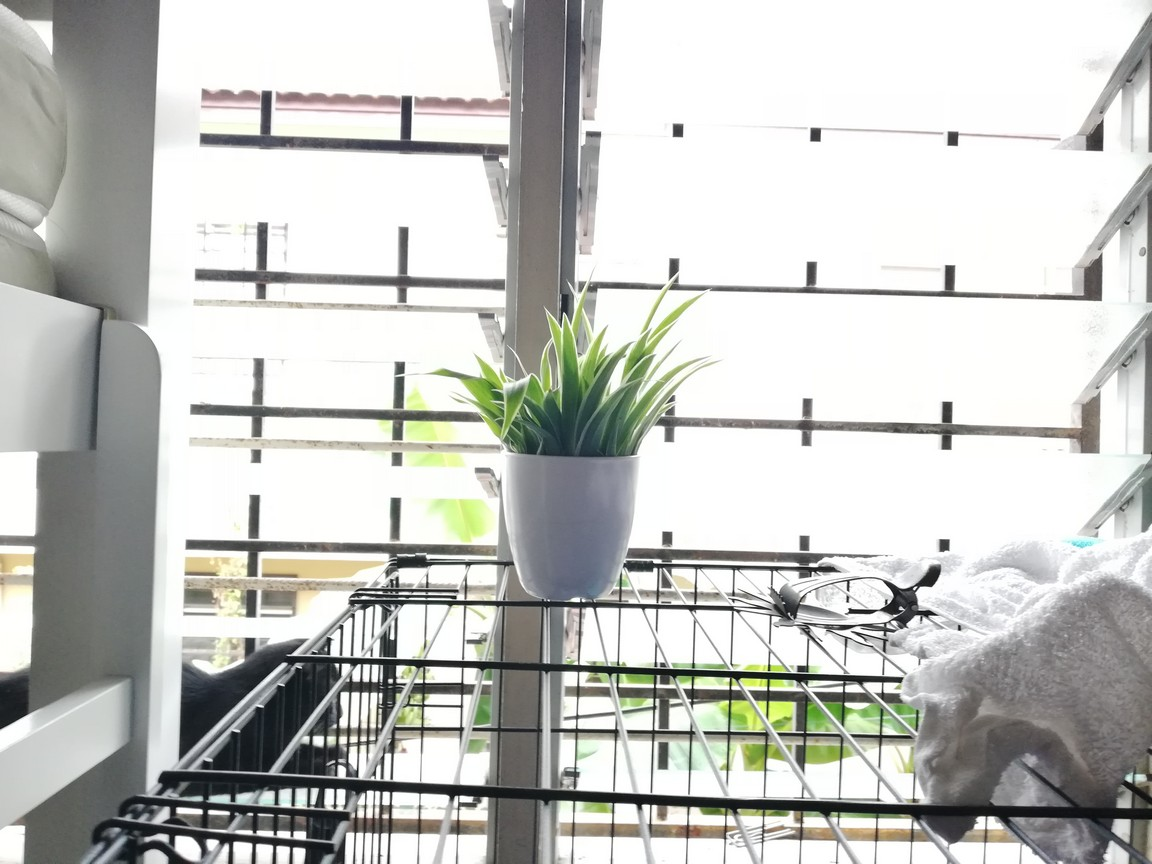daun: (391, 366, 480, 392), (500, 383, 527, 445), (574, 260, 600, 323), (673, 284, 715, 318), (542, 301, 562, 355), (655, 268, 682, 304), (471, 350, 497, 383), (689, 358, 728, 377), (505, 344, 528, 374), (448, 389, 479, 409), (561, 311, 574, 356), (616, 338, 637, 364), (665, 336, 687, 360), (655, 399, 682, 418), (638, 325, 655, 352), (447, 394, 471, 412), (563, 277, 578, 305), (674, 351, 712, 362), (592, 322, 611, 341), (595, 339, 613, 356), (488, 398, 509, 411), (492, 386, 512, 399), (491, 415, 512, 426), (497, 365, 508, 383)
